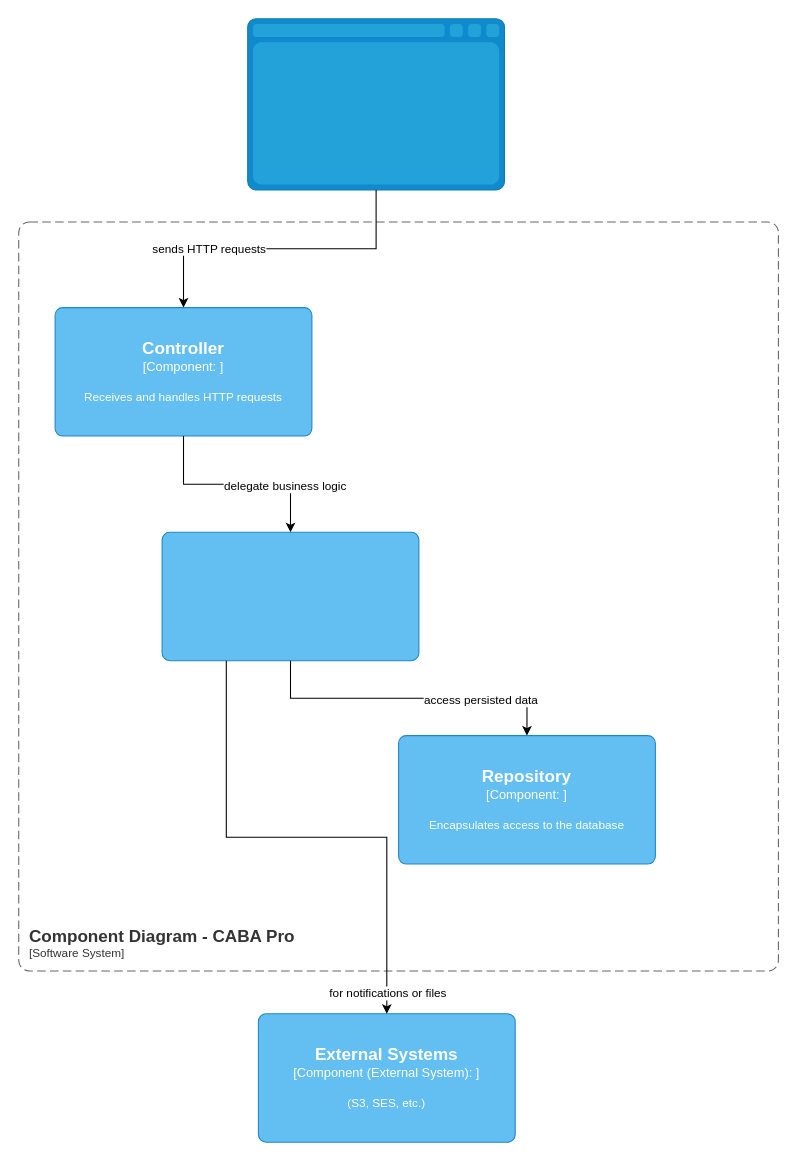
Some shapes in this 797 by 1161 pixel diagram are drawn without their labels. The shapes that lost their labels are listed below. From the top down, each one's centre as x and y in pixels, then its label:
[376,104]: Web Browser [Container: ] Interact with the web application
[290,596]: Service [Component: ] Contains the main business logic of the application.
